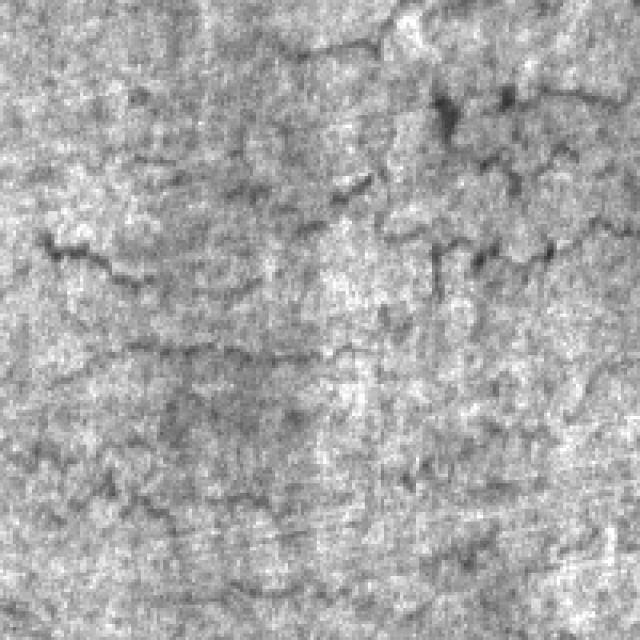crazing: (0, 64, 630, 384), (16, 467, 579, 608)
